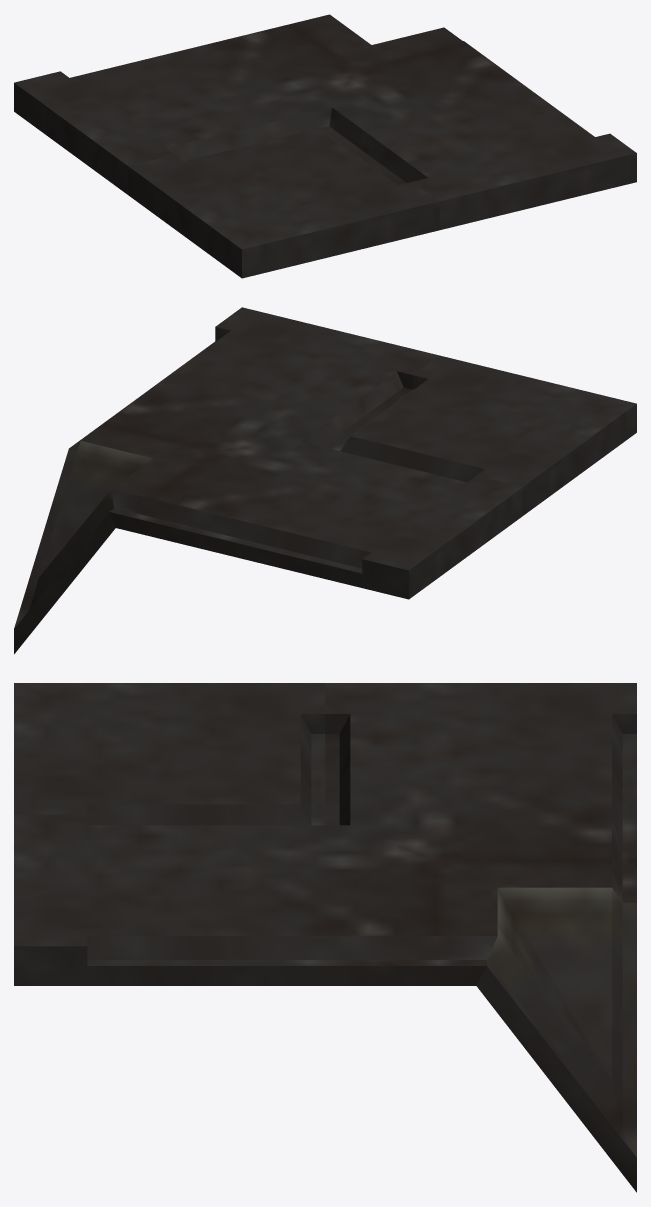
File: Ceiling_external_corner_out.FBX
The picture shows the model from 3 angles, top to bottom: view 1: azimuth 30°, elevation 25°; view 2: azimuth 150°, elevation 25°; view 3: azimuth 270°, elevation 25°; orthographic projection. The views are drawn at different scales.
Parts seen in each view (by area): view 1: Ceiling_external_corner_out; view 2: Ceiling_external_corner_out; view 3: Ceiling_external_corner_out.
Boxes of the visible parts, x1,y1,x2,y2 form: Ceiling_external_corner_out: (14, 14, 636, 278); Ceiling_external_corner_out: (14, 307, 636, 654); Ceiling_external_corner_out: (14, 683, 636, 1192).
Bounding box in the file's own units: 300 × 131 × 300.
